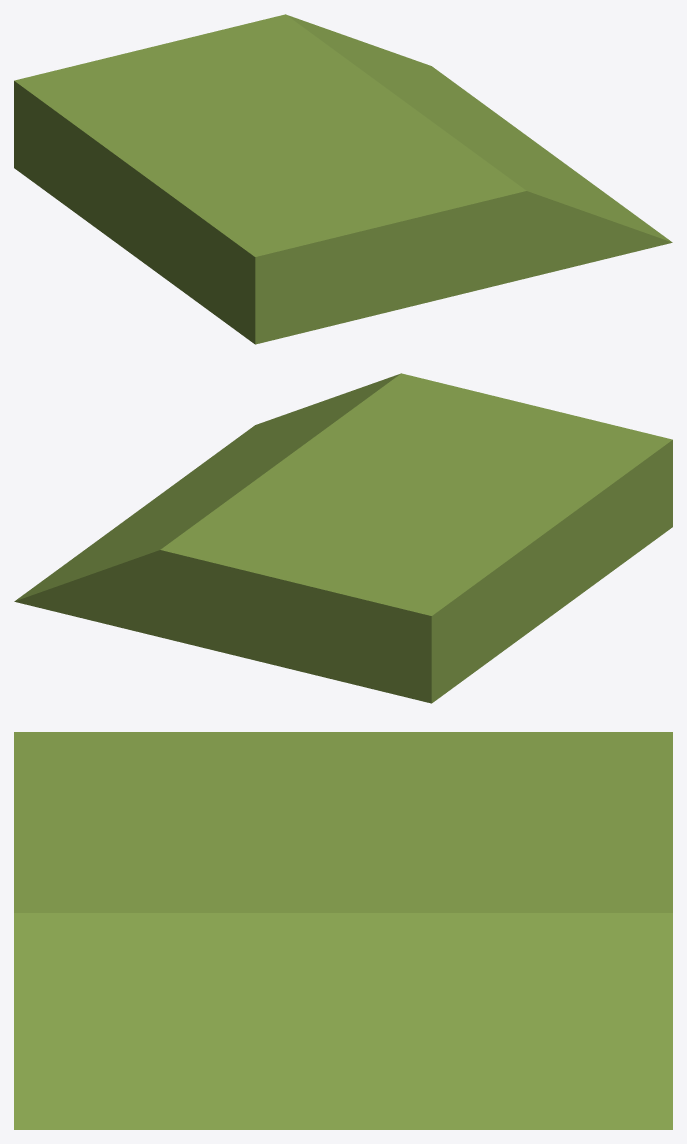
The model's file is grass-tile_02.fbx.
3 views of the same model, one above another, from view 1: azimuth 30°, elevation 25°; view 2: azimuth 150°, elevation 25°; view 3: azimuth 270°, elevation 25° (orthographic). The views are drawn at different scales.
Visible parts, largest first — view 1: bata_house_03.001; view 2: bata_house_03.001; view 3: bata_house_03.001.
Part boxes in pixels (<box>): bata_house_03.001: <box>14,14,672,344</box>; bata_house_03.001: <box>14,373,672,703</box>; bata_house_03.001: <box>14,732,672,1129</box>.
Size of the model in its own units: 1000 by 200 by 1000.
